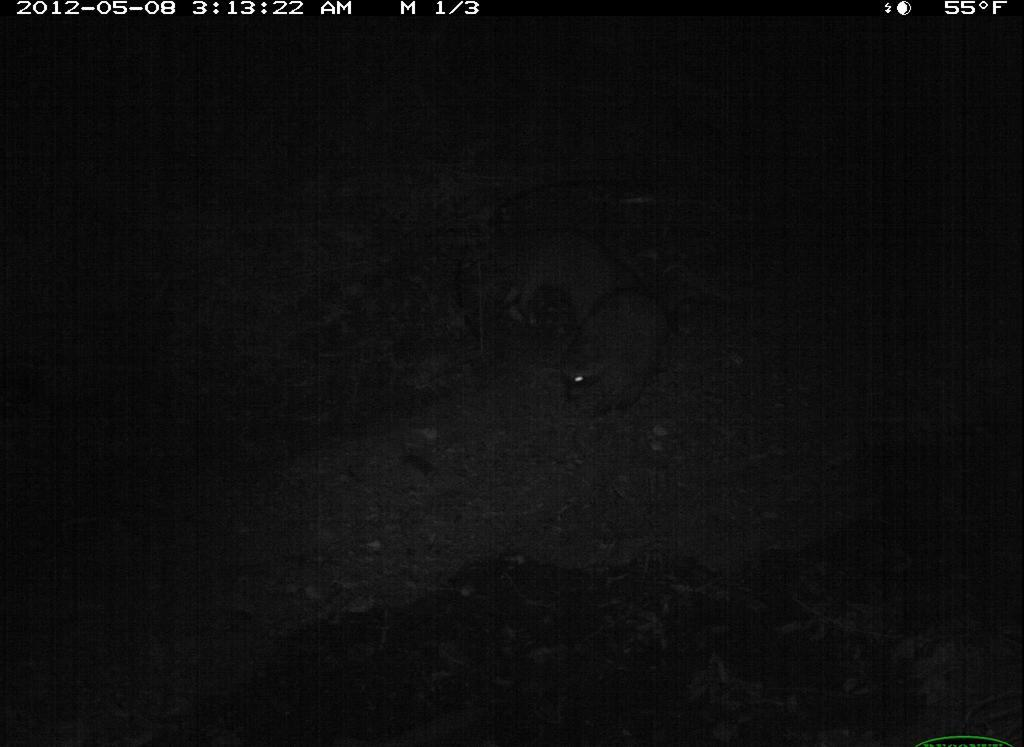raccoon: (460, 205, 664, 319), (553, 281, 681, 425)
